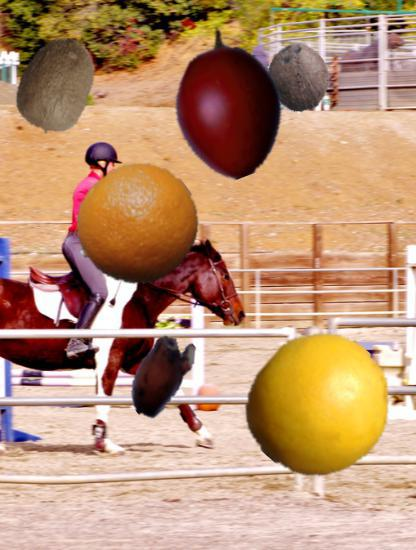Banana: (118, 331, 206, 419)
Cocos: (262, 42, 336, 116)
Grapefruit: (247, 333, 393, 479)
Kiwi: (6, 36, 105, 135)
Orange: (76, 163, 200, 287)
Tamarillo: (153, 29, 302, 178)
